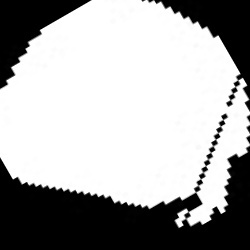spot: (2, 2, 247, 228)
